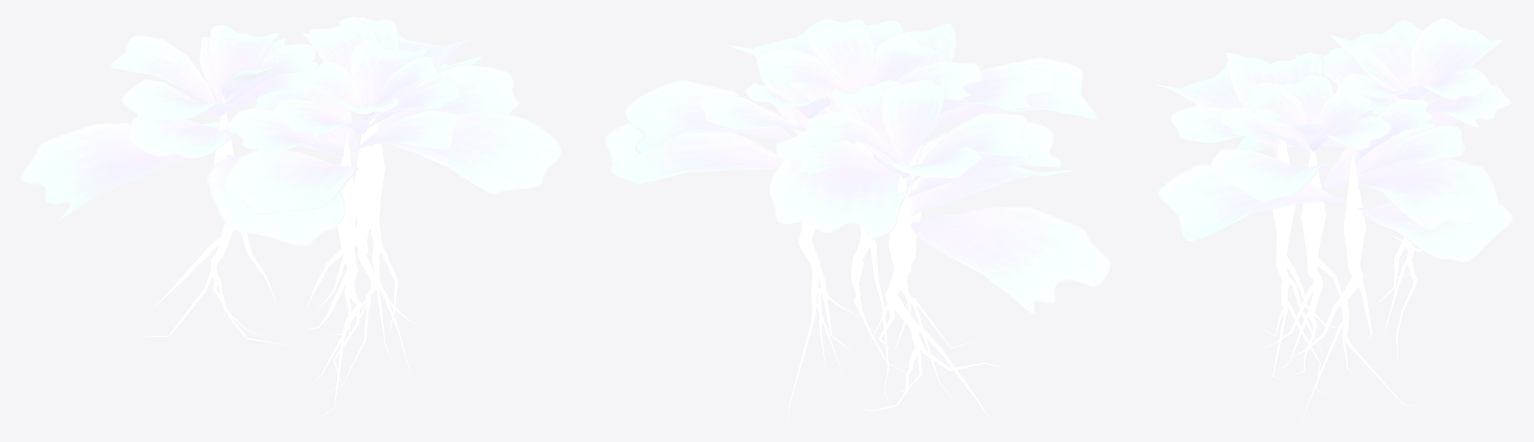
The picture shows the model from 3 angles, left to right: view 1: azimuth 30°, elevation 25°; view 2: azimuth 150°, elevation 25°; view 3: azimuth 270°, elevation 25°; orthographic projection. The views are drawn at different scales.
Visible parts, largest first — view 1: SM_FH_Water_Lettuce_02_LOD0; view 2: SM_FH_Water_Lettuce_02_LOD0; view 3: SM_FH_Water_Lettuce_02_LOD0.
Part boxes in pixels (x1,y1,x2,y2): SM_FH_Water_Lettuce_02_LOD0: [20, 16, 560, 424]; SM_FH_Water_Lettuce_02_LOD0: [605, 18, 1110, 424]; SM_FH_Water_Lettuce_02_LOD0: [1153, 18, 1512, 424].
Size of the model in its own units: 0.9237 by 0.6499 by 0.6719.
1 material, 1 textured.
